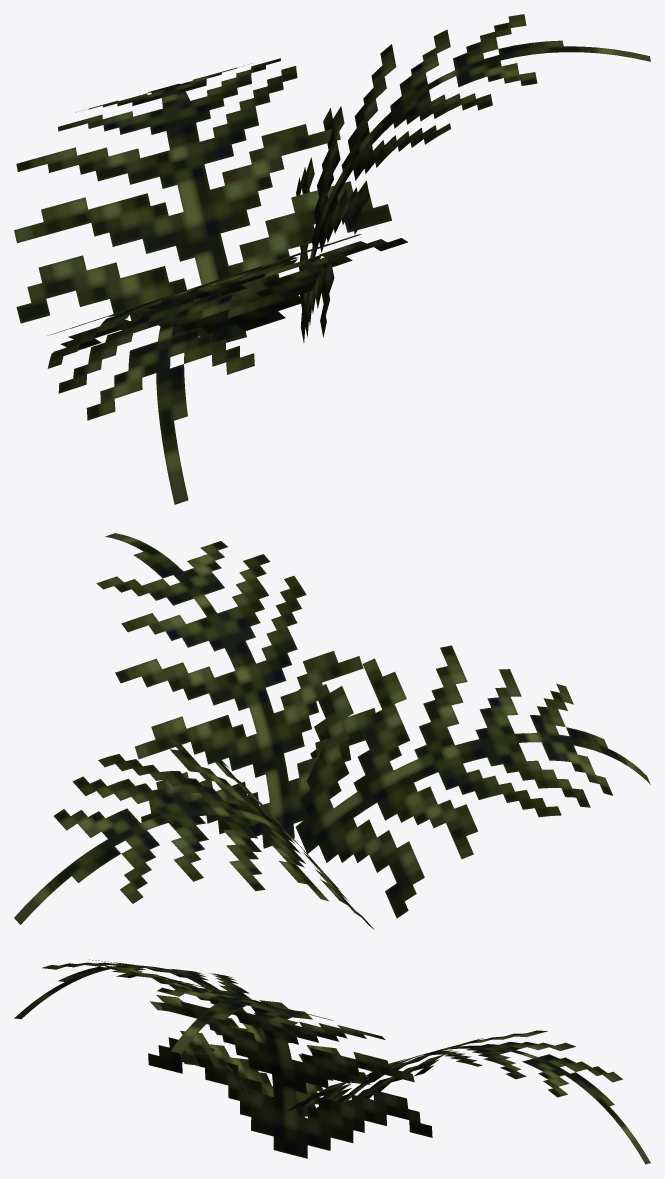
File: EnvFldMD_Grass_E_Fern_LA.FBX
The picture shows the model from 3 angles, top to bottom: view 1: azimuth 30°, elevation 25°; view 2: azimuth 150°, elevation 25°; view 3: azimuth 270°, elevation 25°; orthographic projection. The views are drawn at different scales.
Visible parts, largest first — view 1: EnvFldMD_Grass_E_Fern_LA; view 2: EnvFldMD_Grass_E_Fern_LA; view 3: EnvFldMD_Grass_E_Fern_LA.
Part boxes in pixels (x1,y1,x2,y2): EnvFldMD_Grass_E_Fern_LA: (14,14,650,504); EnvFldMD_Grass_E_Fern_LA: (14,533,650,929); EnvFldMD_Grass_E_Fern_LA: (14,959,650,1164).
Size of the model in its own units: 222 by 101 by 252.
1 material, 1 textured.
